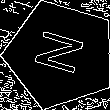N_E: (29, 28, 92, 81)
